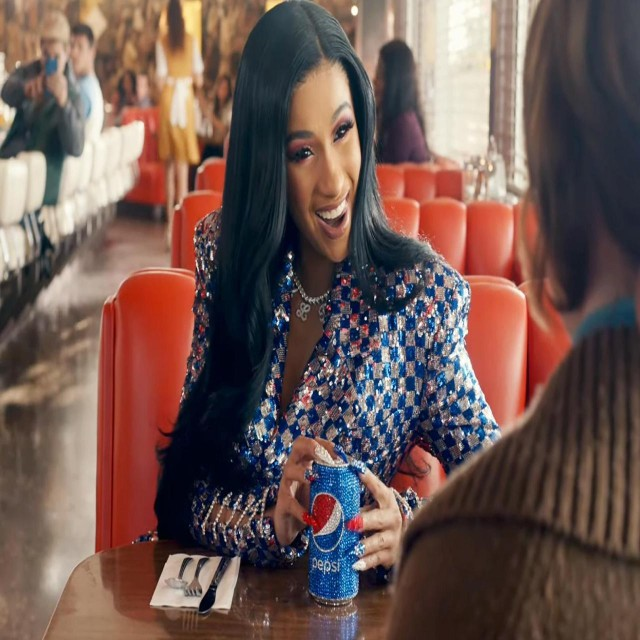pepsi: (312, 484, 342, 555)
